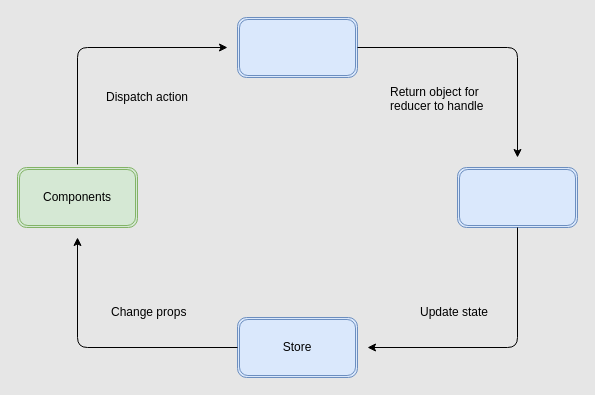
This 595x395 diagram has some shape labels left out. Each missing label, with the centre of its shape:
Actions: pixel 297 47
Reducers: pixel 517 197
